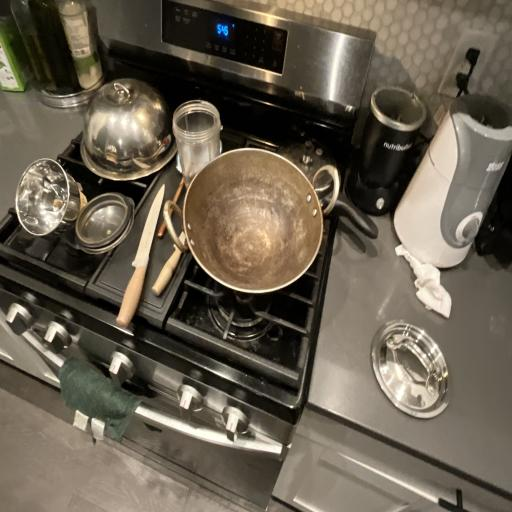Pan: (164, 126, 341, 310)
Stove: (1, 37, 356, 446)
knife: (109, 166, 172, 338)
